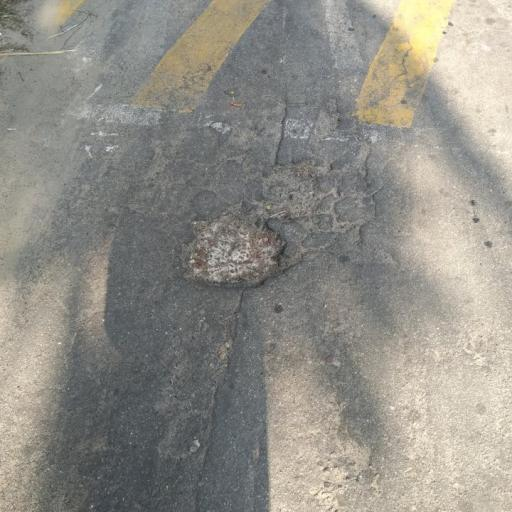pothole: (174, 209, 290, 292), (256, 157, 328, 221)
